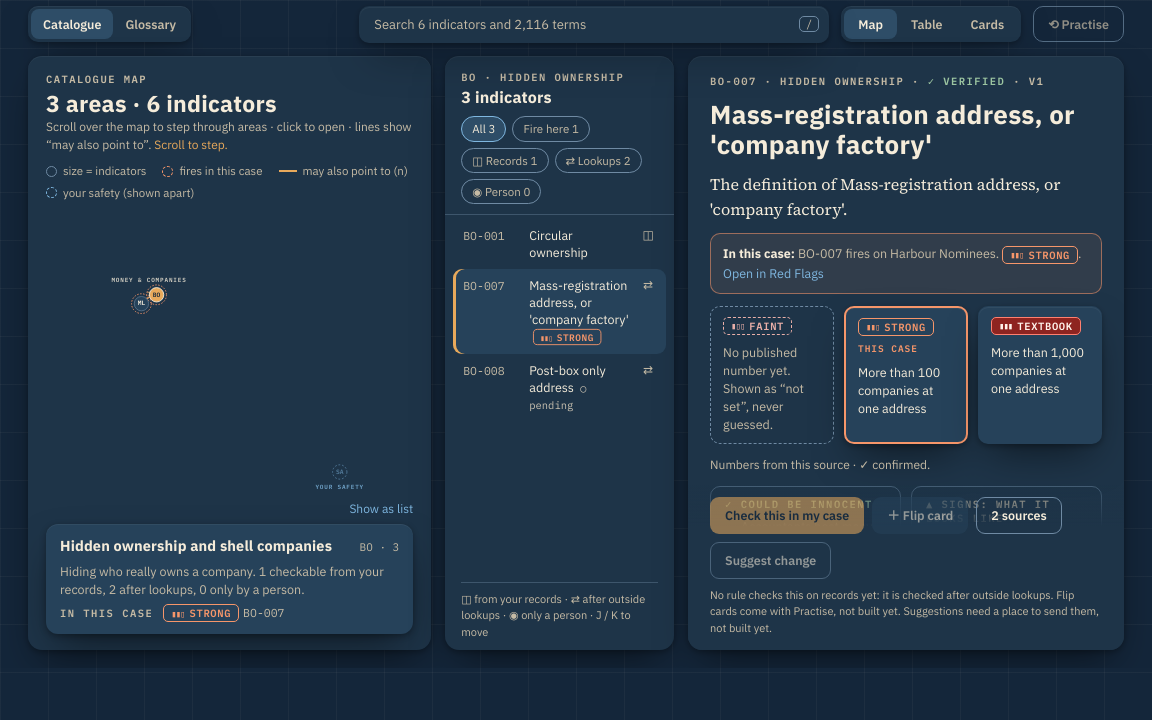
Test: Learn › Red Flags catalogue › shows the catalogue as a table by family, and as cards that turn
Expected: the list named "Areas, in families" is shown, [46,205,413,498]
Step 1. Click the button "Table" → (927, 24), box [897,9,957,39]
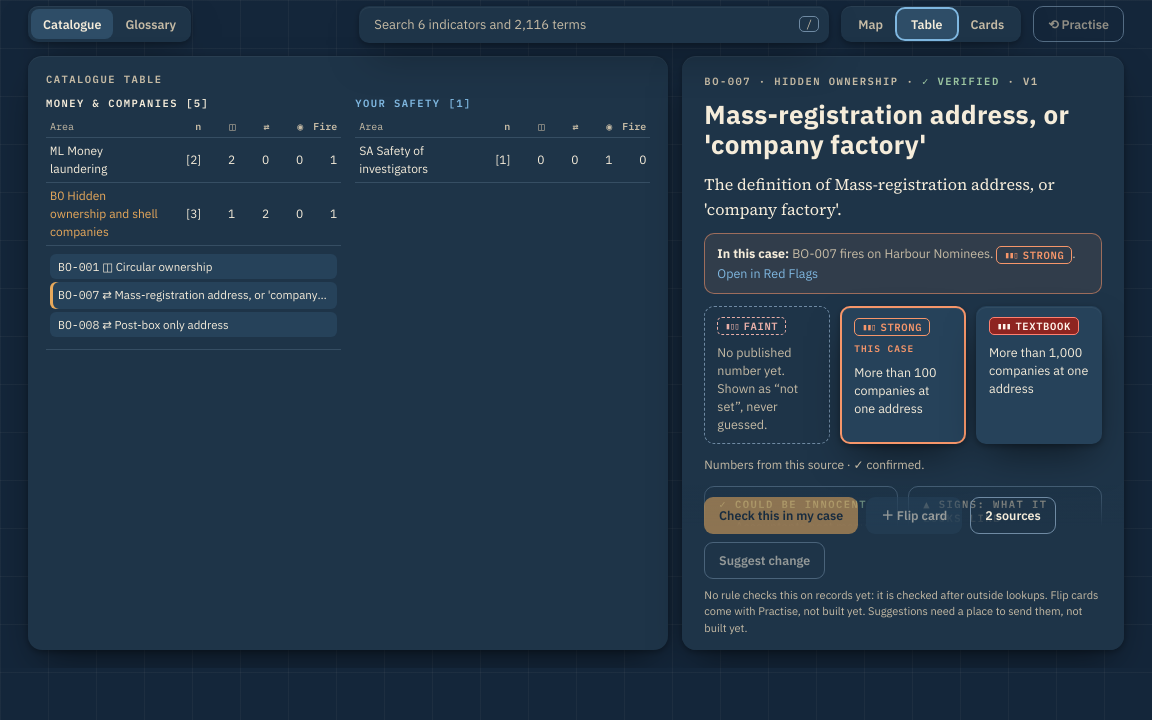
Expected: the column heading "BO Hidden ownership and shell companies" is shown, [46,182,163,246]
Expected: the element "Your safety" is shown, [355,96,650,183]
Step 2. Click the button "ML Money laundering" → (105, 160), box [50,142,159,178]
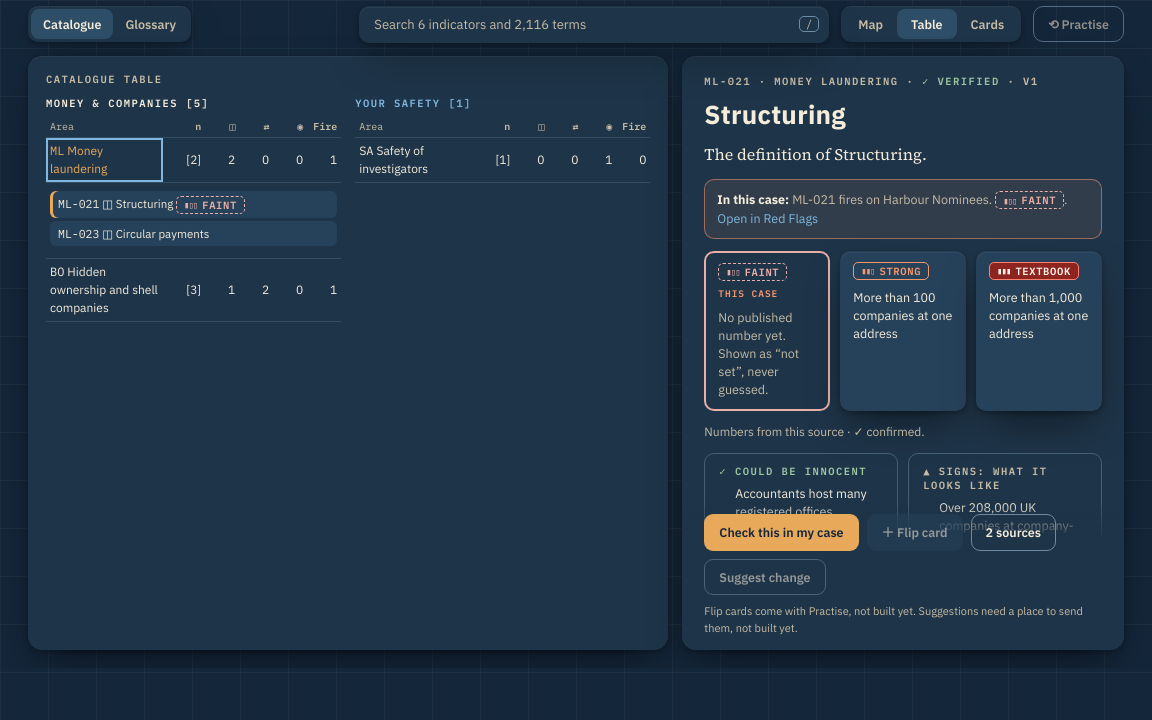
Step 3. Click the button "ML-023 ◫ Circular payments" → (194, 233), box [50,220,337,246]
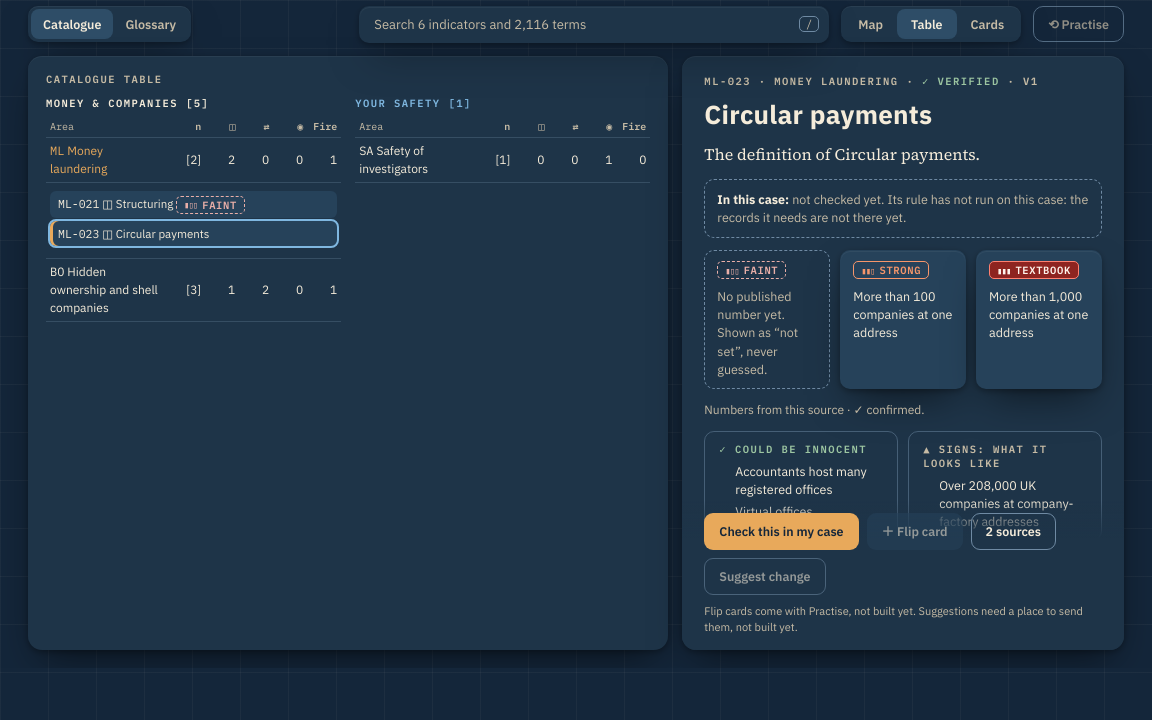
Expected: the element named "Indicator ML-023" is shown, [682,56,1124,650]
Step 4. Click the button "Cards" → (987, 24), box [957,9,1018,39]
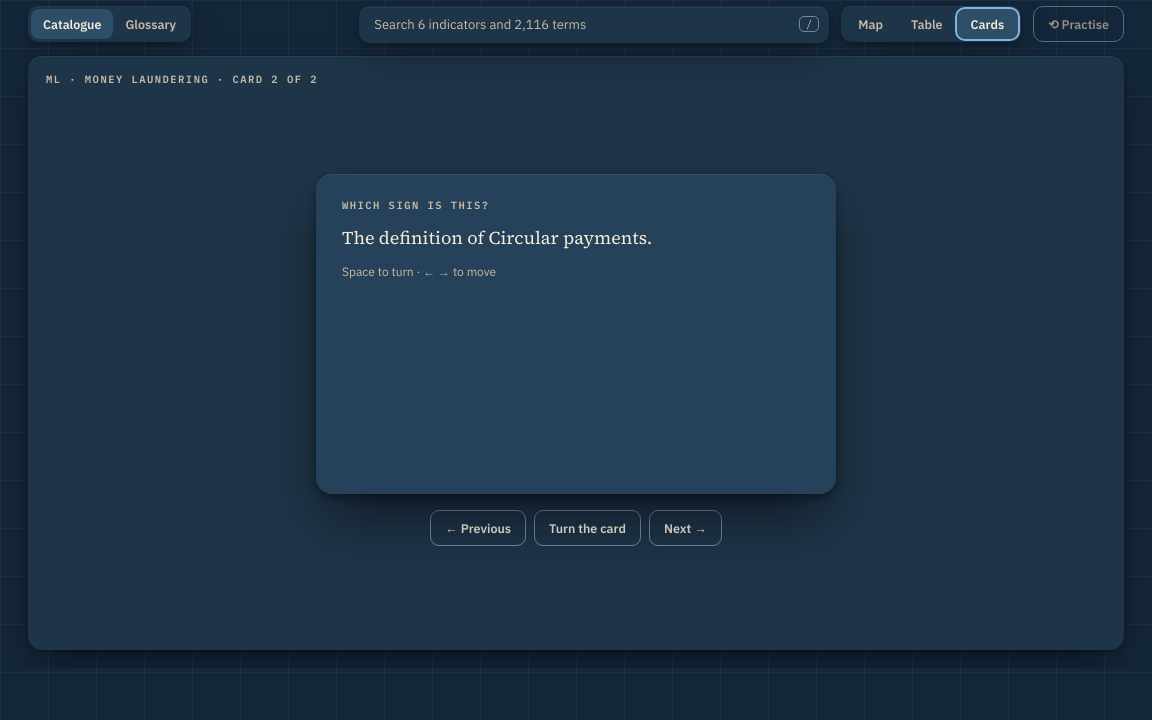
Expected: the text "The definition of Circular payments." is shown, [342,225,652,250]
Step 5. Press Space in the button with aria-label "The sign. Space turns the card.", box [316,174,836,494]
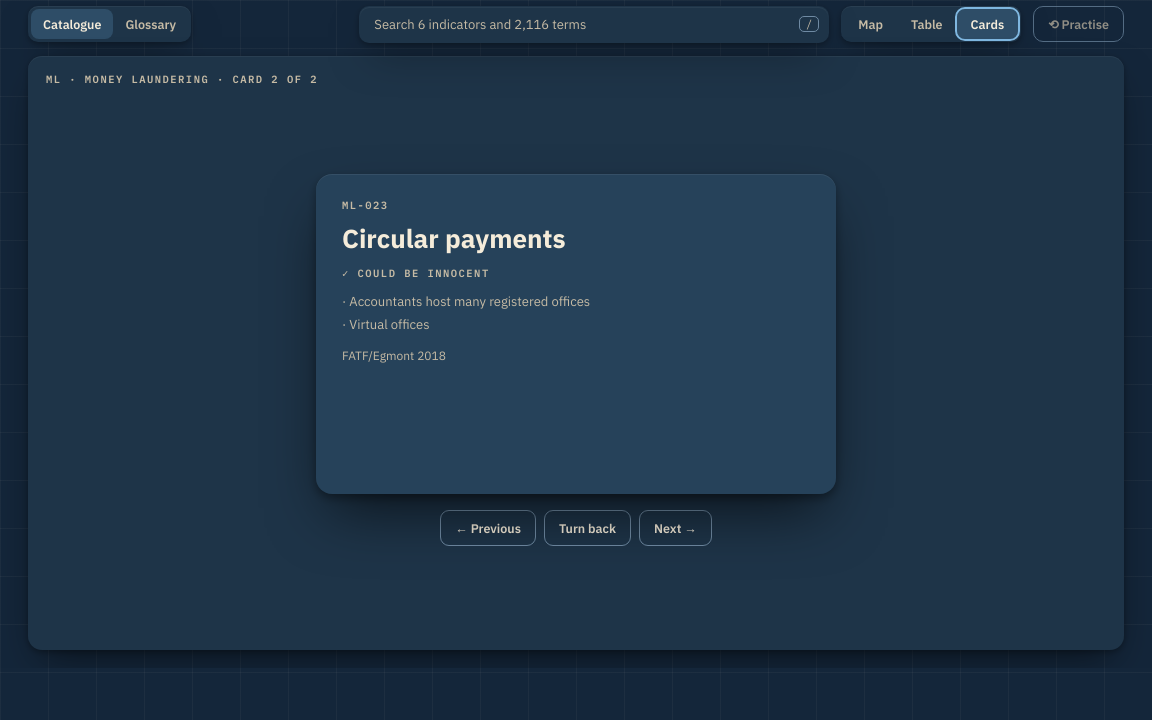
Expected: the button with aria-label "ML-023 Circular payments: the answer side" is shown
Step 6. Press ArrowLeft in the button with aria-label "the answer side", box [316,174,836,494]
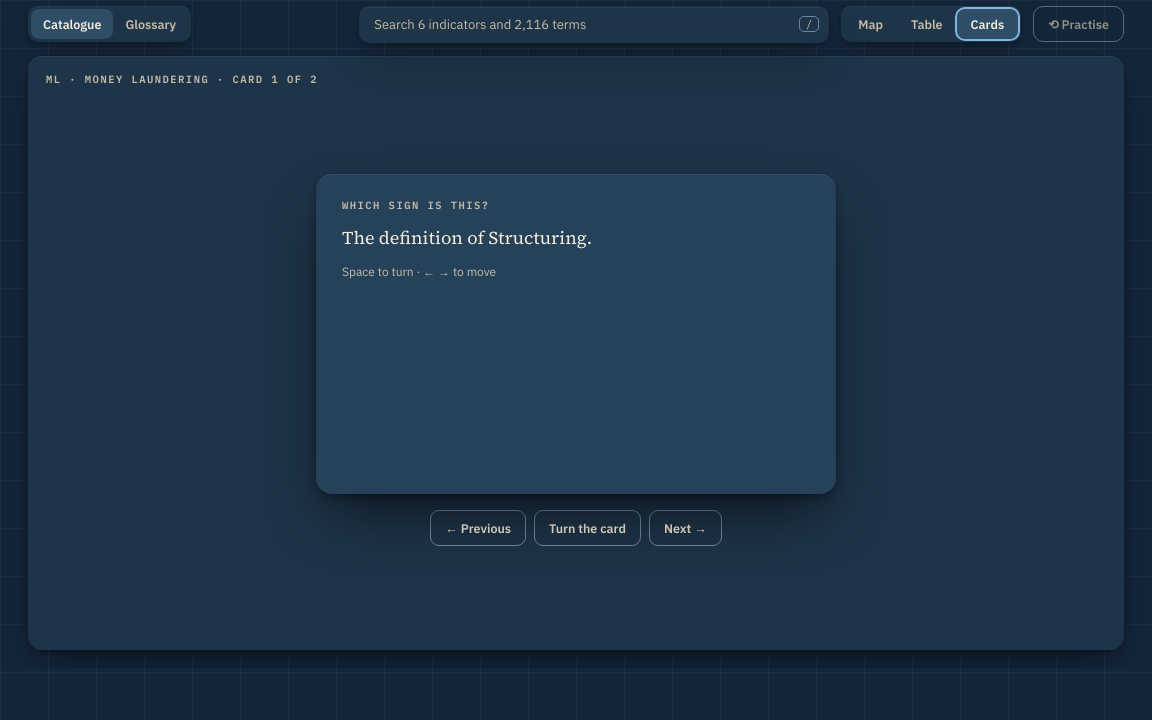
Expected: the element named "Cards" shows "card 1 of 2"
